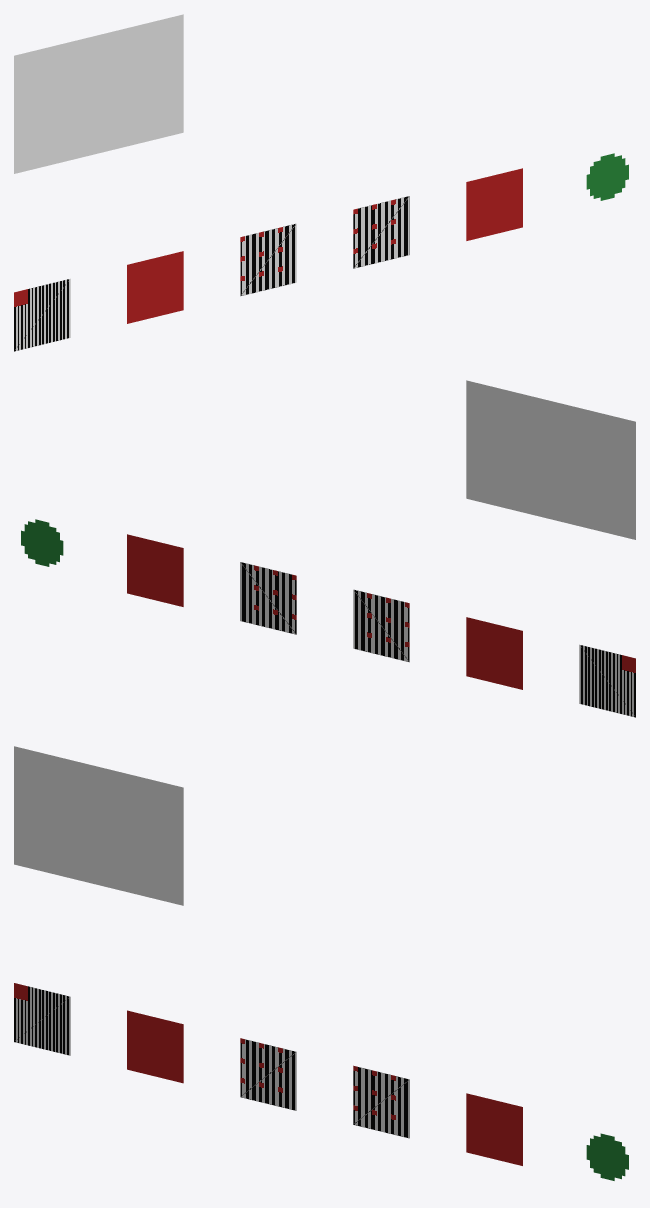
The picture shows the model from 3 angles, top to bottom: view 1: azimuth 30°, elevation 25°; view 2: azimuth 150°, elevation 25°; view 3: azimuth 330°, elevation 25°; orthographic projection.
Parts seen in each view (by area): view 1: Scan, Red, Tiled, Scaled, Stripes, Clamped, Leaf; view 2: Scan, Red, Tiled, Scaled, Stripes, Clamped, Leaf; view 3: Scan, Red, Scaled, Tiled, Stripes, Clamped, Leaf.
Boxes of the visible parts, x1=… form: Scan: x1=14, y1=14, x2=183, y2=173; Red: x1=127, y1=251, x2=183, y2=323; Tiled: x1=240, y1=223, x2=296, y2=296; Scaled: x1=466, y1=168, x2=522, y2=240; Stripes: x1=14, y1=278, x2=70, y2=351; Clamped: x1=353, y1=196, x2=409, y2=268; Leaf: x1=586, y1=153, x2=628, y2=200; Scan: x1=466, y1=380, x2=635, y2=539; Red: x1=466, y1=617, x2=522, y2=689; Tiled: x1=353, y1=589, x2=409, y2=662; Scaled: x1=127, y1=534, x2=183, y2=606; Stripes: x1=579, y1=644, x2=635, y2=717; Clamped: x1=240, y1=562, x2=296, y2=634; Leaf: x1=21, y1=519, x2=63, y2=566; Scan: x1=14, y1=746, x2=183, y2=905; Red: x1=127, y1=1010, x2=183, y2=1083; Scaled: x1=466, y1=1093, x2=522, y2=1165; Tiled: x1=240, y1=1038, x2=296, y2=1110; Stripes: x1=14, y1=983, x2=70, y2=1055; Clamped: x1=353, y1=1065, x2=409, y2=1138; Leaf: x1=586, y1=1133, x2=628, y2=1180.
Bounding box in the file's own units: 11 × 5 × 0.
